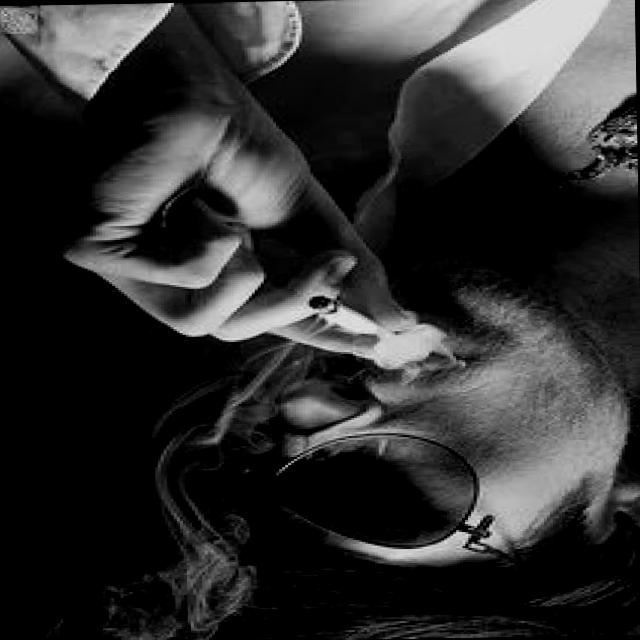cigarette: (303, 290, 401, 340)
